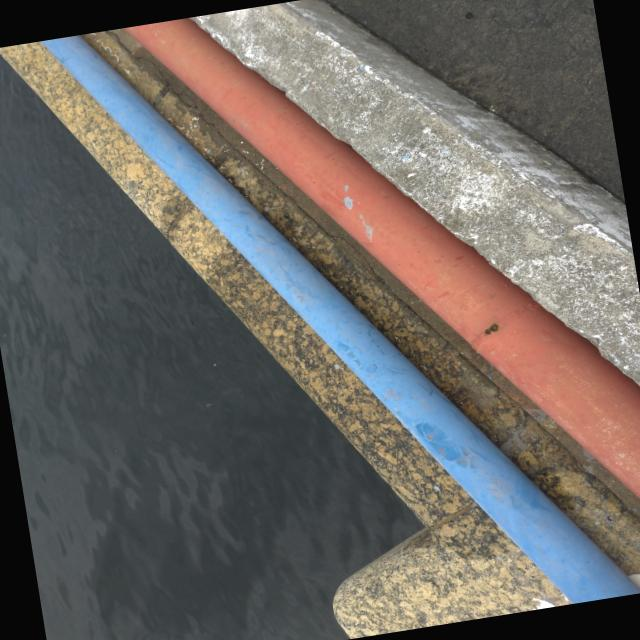gas: (38, 35, 640, 604), (124, 17, 640, 499)
